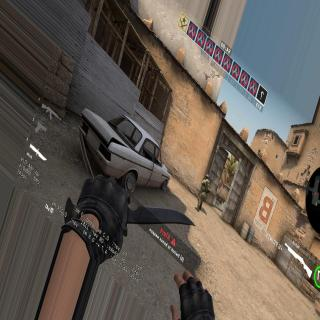CT-Body: (196, 174, 208, 209)
CT-Head: (205, 174, 209, 179)
